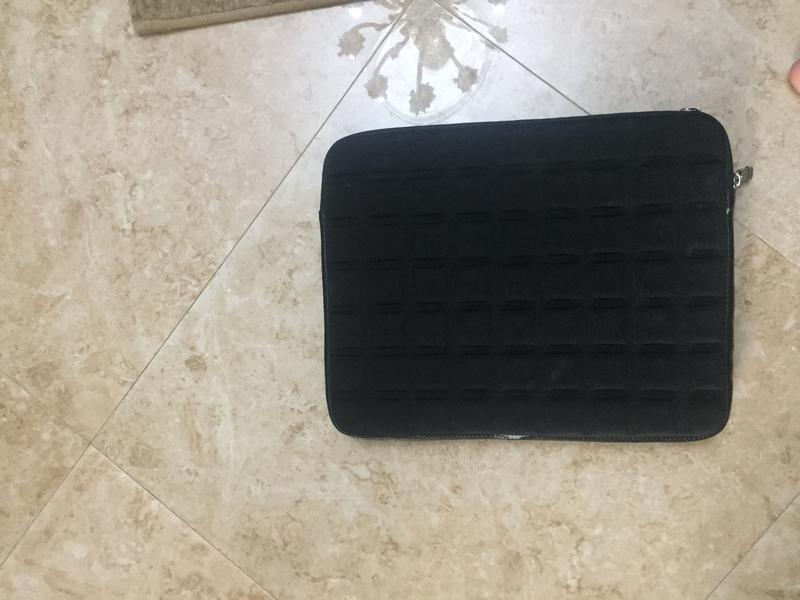cover: (310, 106, 751, 453)
